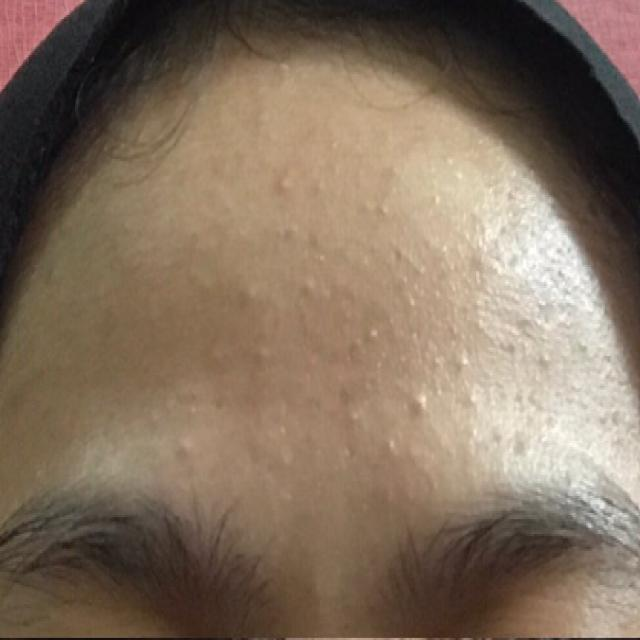fungal: (185, 124, 568, 474)
